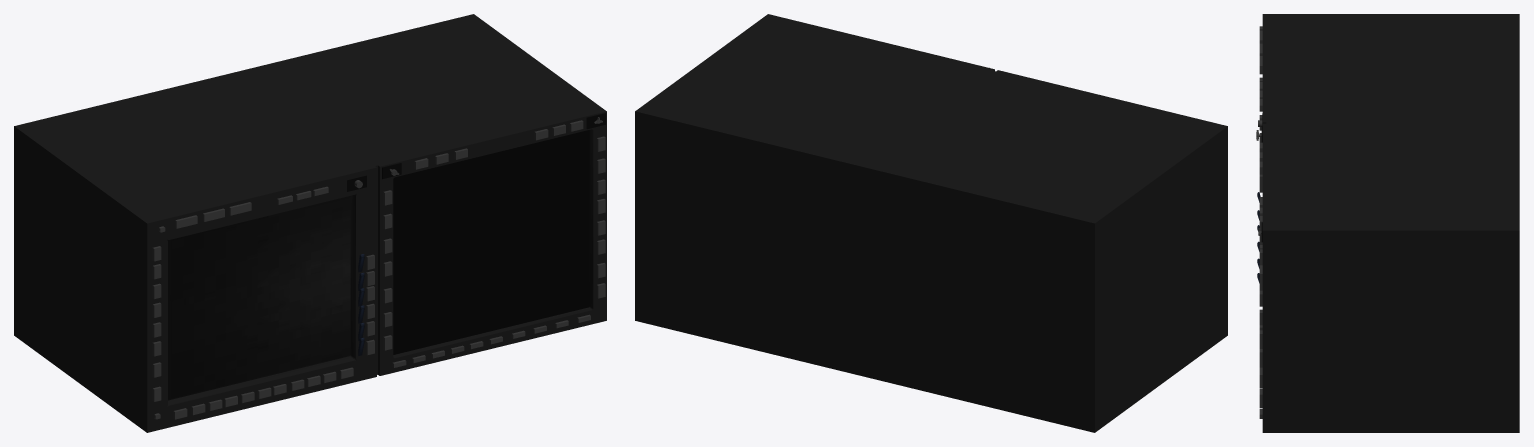
The model's file is 조종석2(05-26).FBX.
The picture shows the model from 3 angles, left to right: view 1: azimuth 30°, elevation 25°; view 2: azimuth 150°, elevation 25°; view 3: azimuth 270°, elevation 25°; orthographic projection. The views are drawn at different scales.
Parts seen in each view (by area): view 1: Box001; view 2: Box001; view 3: Box001.
Part boxes in pixels (bbox=[...]): Box001: bbox=[14, 14, 606, 432]; Box001: bbox=[635, 14, 1227, 432]; Box001: bbox=[1256, 14, 1519, 432].
Bounding box in the file's own units: 405 × 176 × 208.
